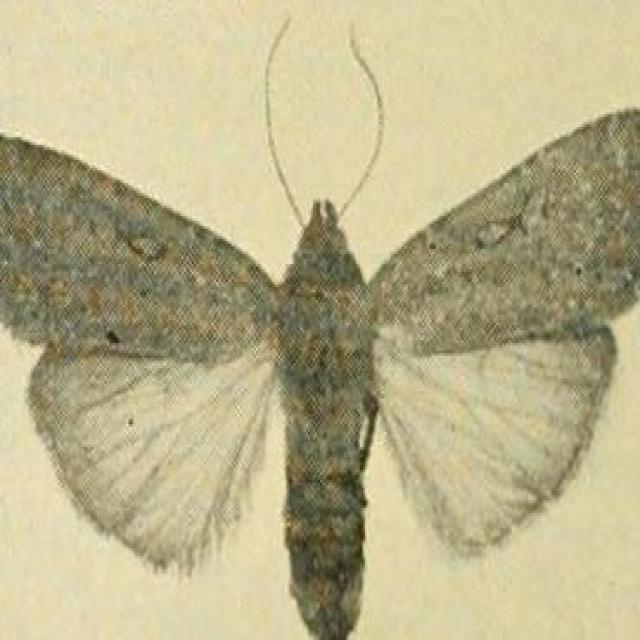armyworm: (1, 8, 640, 640)
